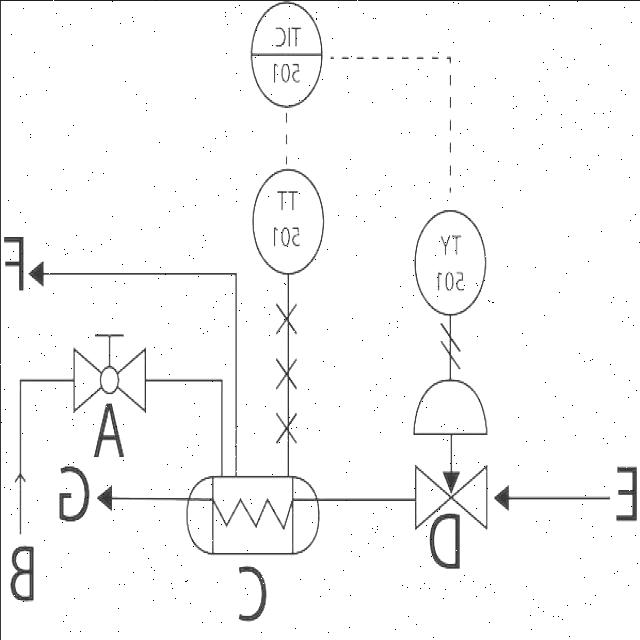Fail Closed Safe Position: (399, 372, 492, 530)
Hand Operated Ball Valve: (57, 312, 159, 412)
